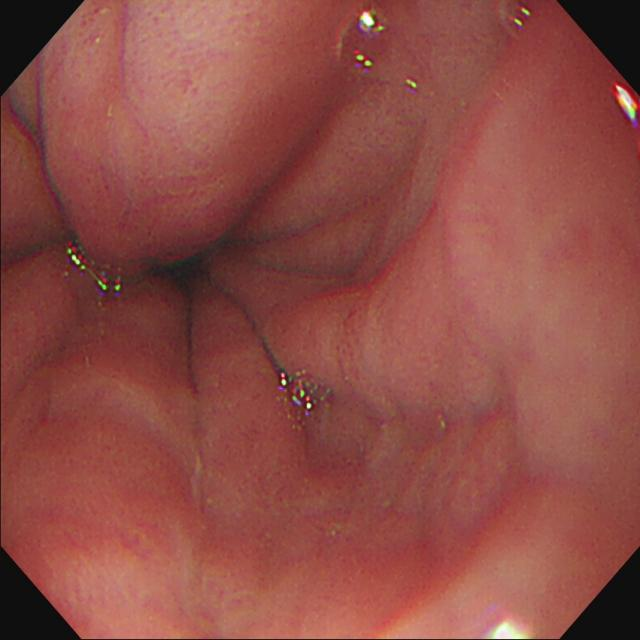A: (85, 5, 270, 187)
E: (155, 252, 212, 299)
U: (67, 242, 125, 300), (278, 367, 334, 420), (612, 84, 640, 124), (487, 615, 530, 640), (349, 45, 375, 75), (360, 10, 385, 36), (402, 78, 424, 97)
